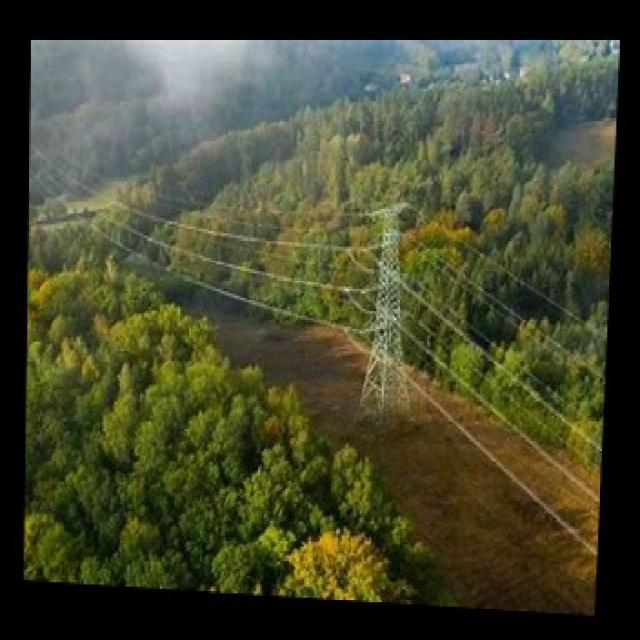utility poles: (342, 183, 446, 434)
